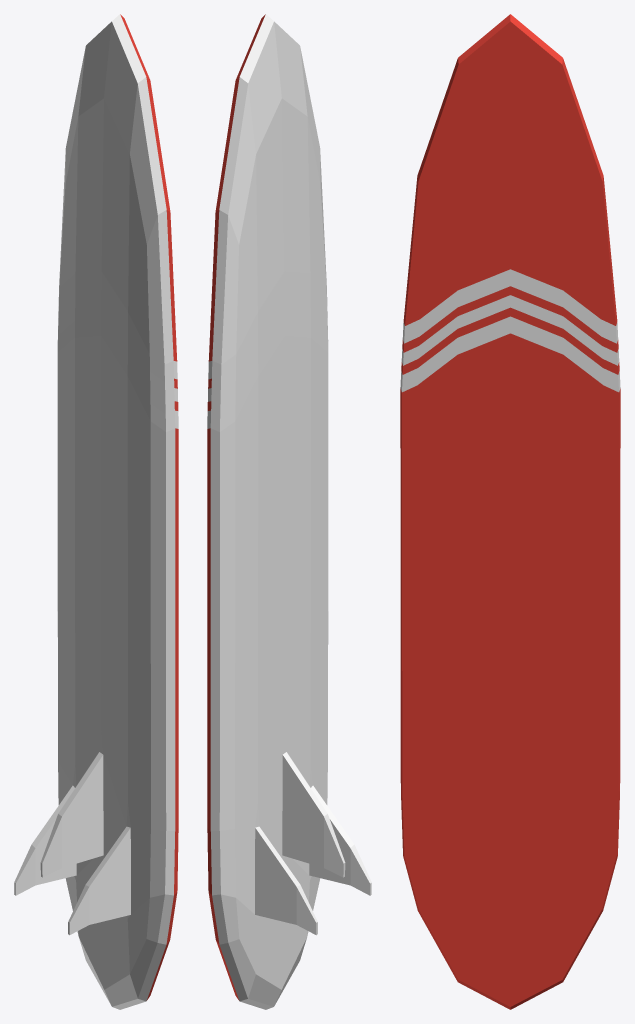
The model's file is SurfBoard_01.obj.
3 renders of one model, left to right at view 1: azimuth 30°, elevation 25°; view 2: azimuth 150°, elevation 25°; view 3: azimuth 270°, elevation 25°, orthographic.
Parts seen in each view (by area): view 1: Surfboard_Cube.027; view 2: Surfboard_Cube.027; view 3: Surfboard_Cube.027.
Boxes of the visible parts, x1,y1,x2,y2 form: Surfboard_Cube.027: (14, 14, 178, 1009); Surfboard_Cube.027: (207, 14, 371, 1009); Surfboard_Cube.027: (400, 14, 620, 1009).
Size of the model in its own units: 3.75 by 43.04 by 8.62.
